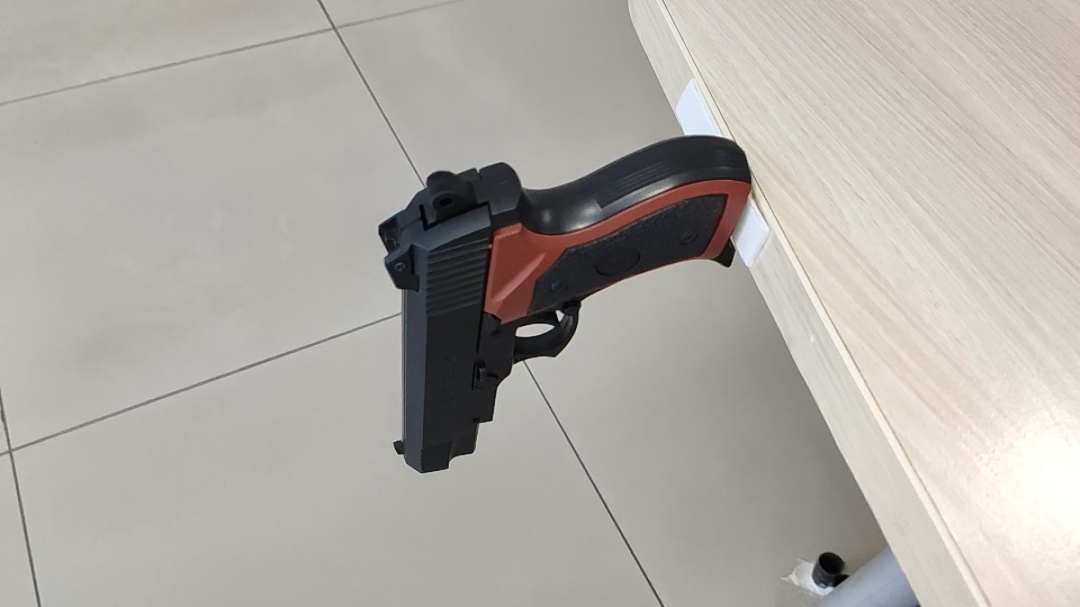gun: (587, 217, 725, 302)
